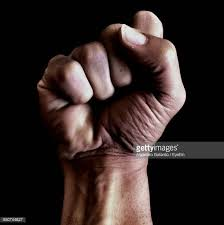fist: (43, 23, 187, 155)
